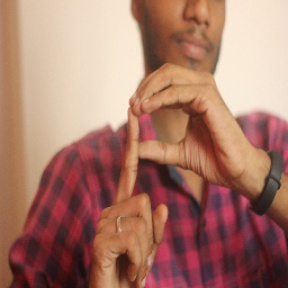P: (86, 65, 247, 265)
